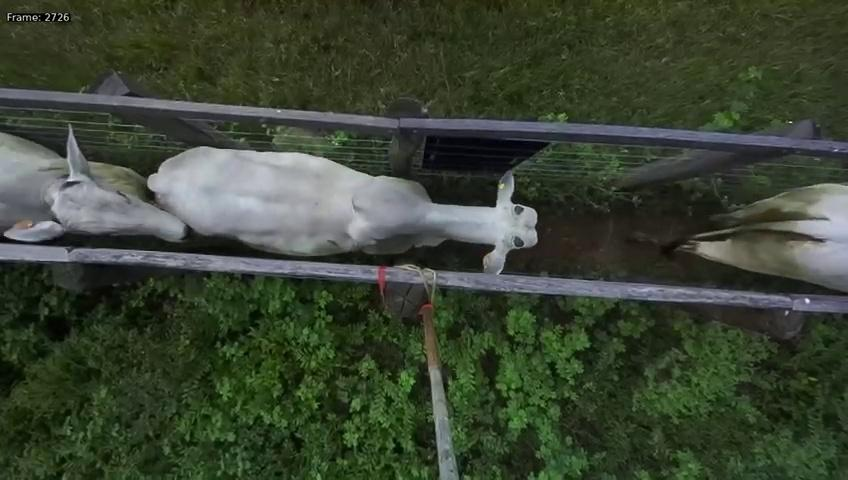cattle: (141, 119, 540, 275)
